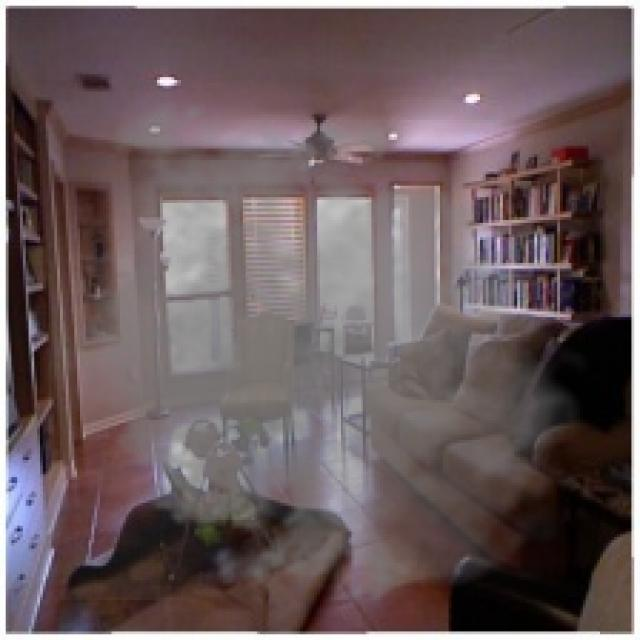Smoke: (48, 86, 603, 612)
